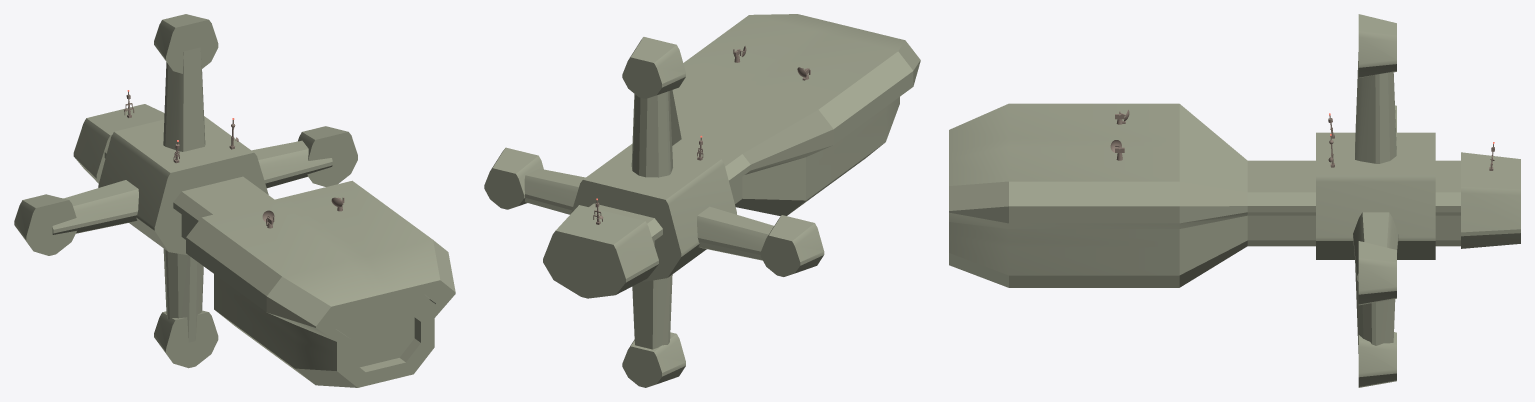
Rendered from vos_cross.glb.
3 renders of one model, left to right at view 1: azimuth 30°, elevation 25°; view 2: azimuth 150°, elevation 25°; view 3: azimuth 270°, elevation 25°, orthographic. The views are drawn at different scales.
Parts seen in each view (by area): view 1: hull, hull_metal_4a3a30; view 2: hull, hull_metal_4a3a30; view 3: hull, hull_metal_4a3a30.
Boxes of the visible parts, x1,y1,x2,y2 form: hull: (14, 14, 455, 387); hull_metal_4a3a30: (124, 91, 344, 228); hull: (484, 14, 920, 387); hull_metal_4a3a30: (593, 46, 810, 224); hull: (949, 14, 1520, 387); hull_metal_4a3a30: (1110, 110, 1494, 170).
Size of the model in its own units: 95 by 94 by 134.
